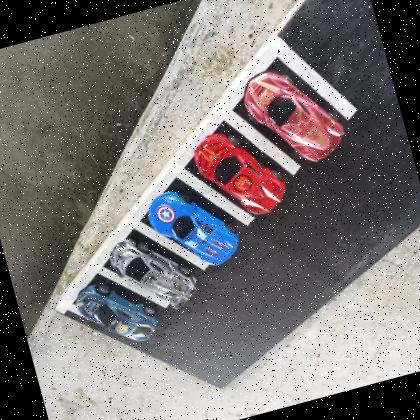Car: (238, 56, 350, 176), (190, 118, 292, 226), (143, 176, 245, 279), (107, 226, 202, 322), (72, 270, 164, 355)
